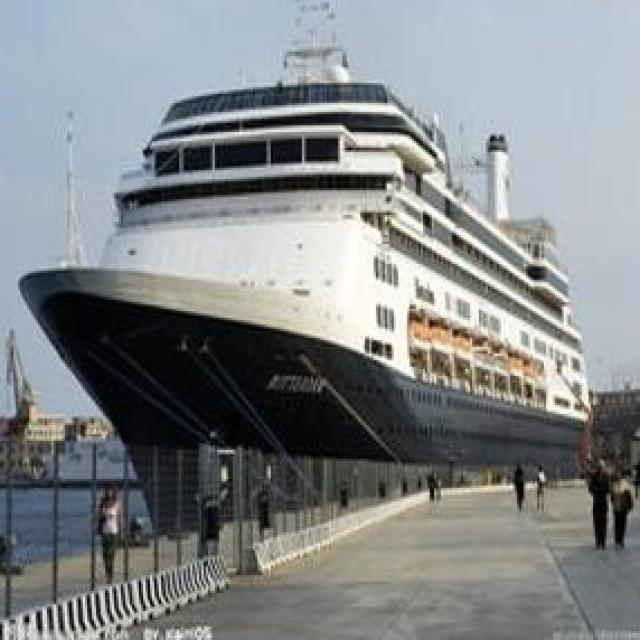passenger ship: (3, 34, 599, 483)
